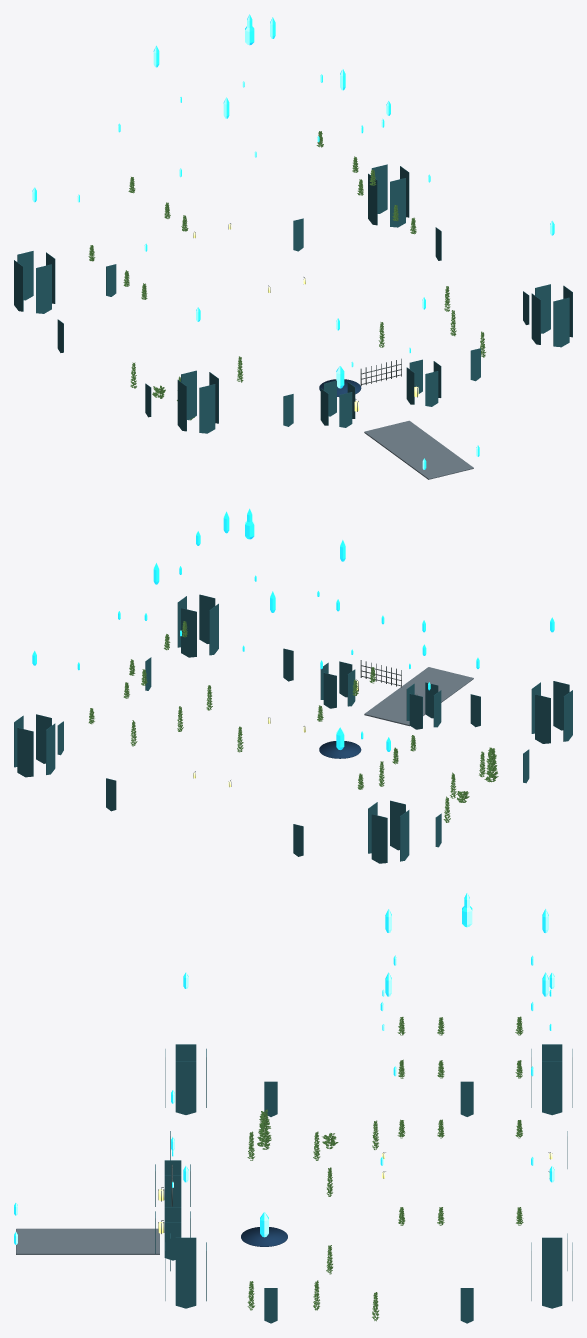
Rendered from Catalog-30.glb.
The picture shows the model from 3 angles, top to bottom: view 1: azimuth 30°, elevation 25°; view 2: azimuth 150°, elevation 25°; view 3: azimuth 270°, elevation 25°; orthographic projection. The views are drawn at different scales.
Parts seen in each view (by area): view 1: Neris Teal Banner, Town Pavinglight, Royal Garden Deep Leaves (×2), Cyan Relay Crystal, Crystal Bright Facets; view 2: Neris Teal Banner, Royal Garden Deep Leaves (×2), Town Pavinglight, Cyan Relay Crystal, Royal Deep Blue Water; view 3: Neris Teal Banner, Town Pavinglight, Royal Garden Deep Leaves (×2), Cyan Relay Crystal, Crystal Bright Facets, Royal Deep Blue Water.
Boxes of the visible parts, left/top/right/bottom form: Neris Teal Banner: left=14, top=164, right=572, bottom=433; Town Pavinglight: left=364, top=420, right=473, bottom=479; Royal Garden Deep Leaves (×2): left=88, top=131, right=485, bottom=420; Cyan Relay Crystal: left=32, top=14, right=554, bottom=469; Crystal Bright Facets: left=32, top=15, right=552, bottom=469; Neris Teal Banner: left=14, top=594, right=572, bottom=863; Royal Garden Deep Leaves (×2): left=88, top=621, right=498, bottom=822; Town Pavinglight: left=364, top=667, right=473, bottom=726; Cyan Relay Crystal: left=32, top=508, right=554, bottom=751; Royal Deep Blue Water: left=319, top=741, right=361, bottom=758; Neris Teal Banner: left=155, top=1044, right=572, bottom=1323; Town Pavinglight: left=16, top=1228, right=159, bottom=1254; Royal Garden Deep Leaves (×2): left=247, top=1016, right=523, bottom=1321; Cyan Relay Crystal: left=14, top=893, right=554, bottom=1244; Crystal Bright Facets: left=16, top=892, right=554, bottom=1244; Royal Deep Blue Water: left=241, top=1227, right=287, bottom=1246.
Bounding box in the file's own units: 76.38 × 59.13 × 85.5.
